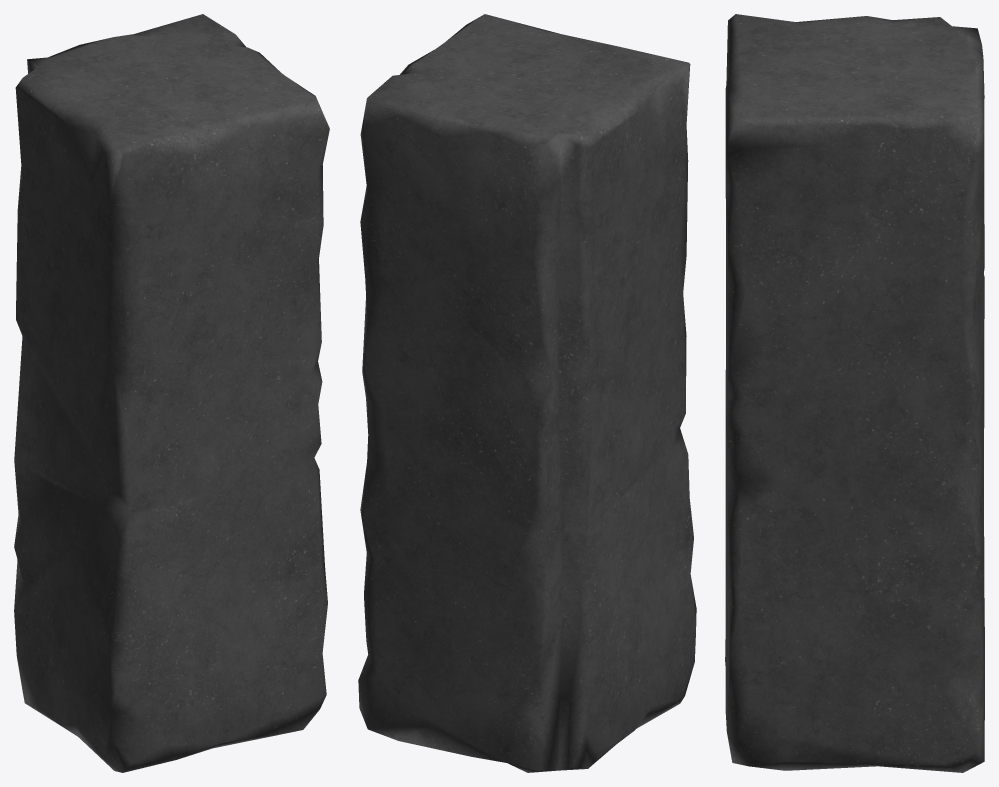
The model's file is SM_ColumnSegmentChiselled2.fbx.
3 views of the same model, side by side, from view 1: azimuth 30°, elevation 25°; view 2: azimuth 150°, elevation 25°; view 3: azimuth 270°, elevation 25° (orthographic). The views are drawn at different scales.
Visible parts, largest first — view 1: SM_ColumnSegmentChiselled2_LOD0; view 2: SM_ColumnSegmentChiselled2_LOD0; view 3: SM_ColumnSegmentChiselled2_LOD0.
Boxes of the visible parts, box(x1,y1,x2,y2) form: SM_ColumnSegmentChiselled2_LOD0: box(14, 14, 329, 772); SM_ColumnSegmentChiselled2_LOD0: box(358, 14, 696, 772); SM_ColumnSegmentChiselled2_LOD0: box(725, 14, 984, 772).
Bounding box in the file's own units: 84.73 × 84.32 × 236.
Materials: 1 (1 with a texture image).
